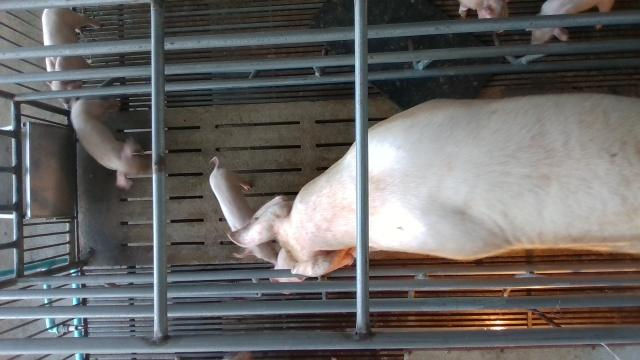piglet: (209, 156, 278, 269), (70, 99, 152, 191), (42, 8, 100, 111), (526, 0, 615, 45)
sow-stand: (229, 92, 640, 277)
